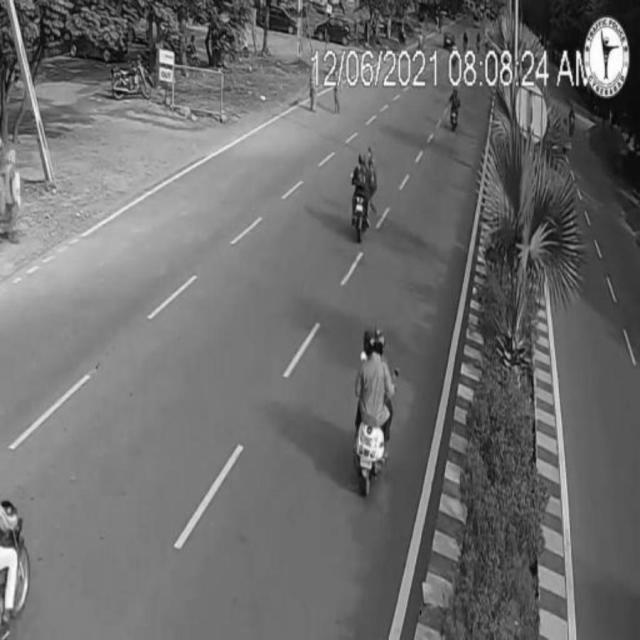accident: (351, 147, 378, 237)
vehicle: (356, 319, 394, 489), (451, 83, 461, 130)
